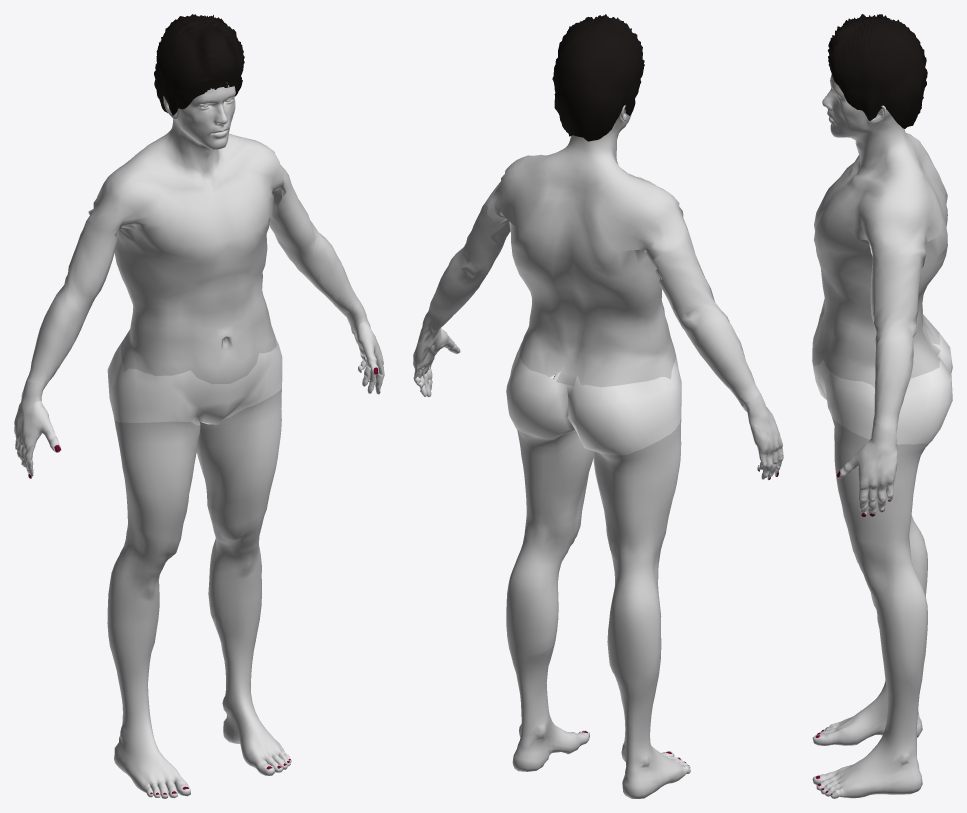
The model's file is avatar_male.glb.
The picture shows the model from 3 angles, left to right: view 1: azimuth 30°, elevation 25°; view 2: azimuth 150°, elevation 25°; view 3: azimuth 270°, elevation 25°; orthographic projection.
Parts seen in each view (by area): view 1: m_ca01; view 2: m_ca01; view 3: m_ca01.
Part boxes in pixels (left/top/right/bottom): m_ca01: left=14, top=14, right=384, bottom=798; m_ca01: left=413, top=14, right=783, bottom=798; m_ca01: left=812, top=14, right=952, bottom=798.
Bounding box in the file's own units: 1.01 × 2 × 0.3416.
11 materials, 1 textured.
